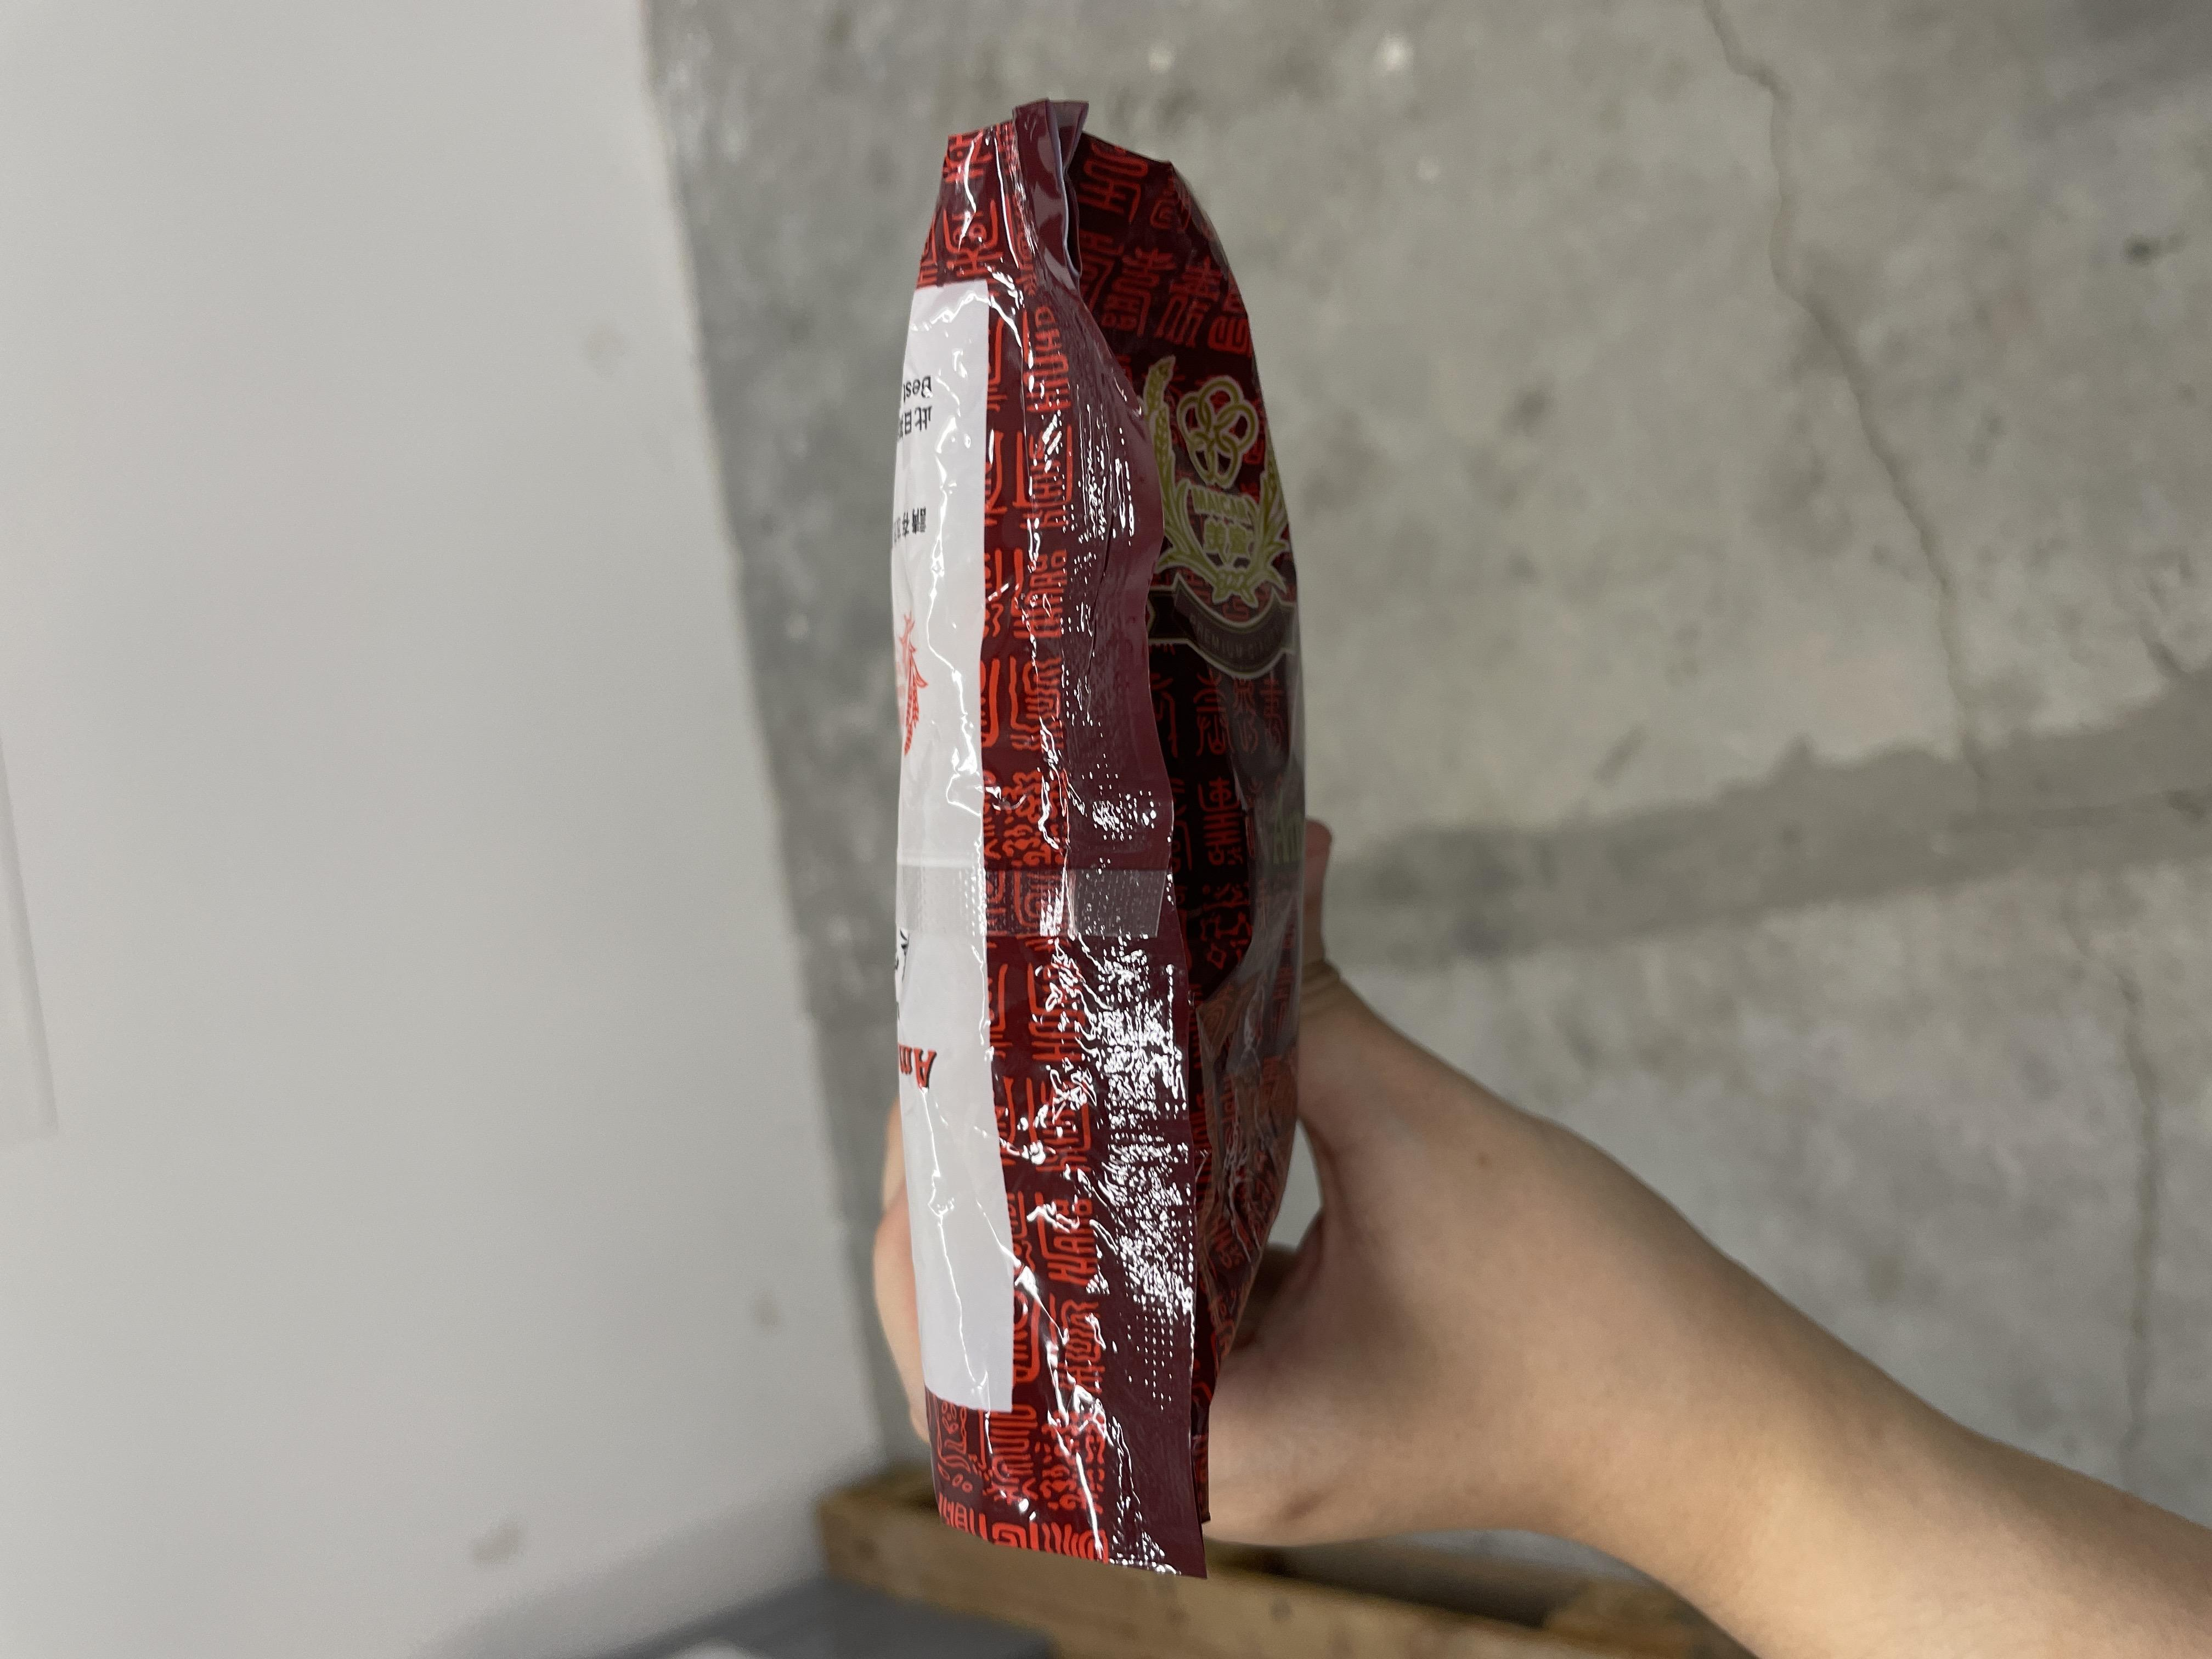object_name: (138, 932, 1487, 1234)
